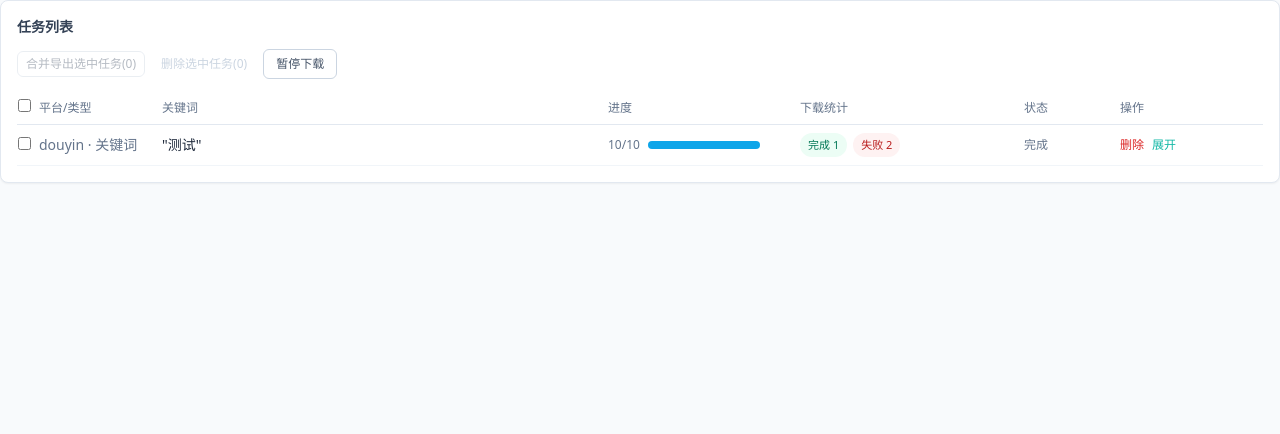
it: 失败行渲染中文原因 › 失败行显示 describeError 的中文原因
This screenshot has width=1280, height=434.
Click the button "展开" at (1164, 145), box top-left (1152, 137), bottom-right (1176, 153)
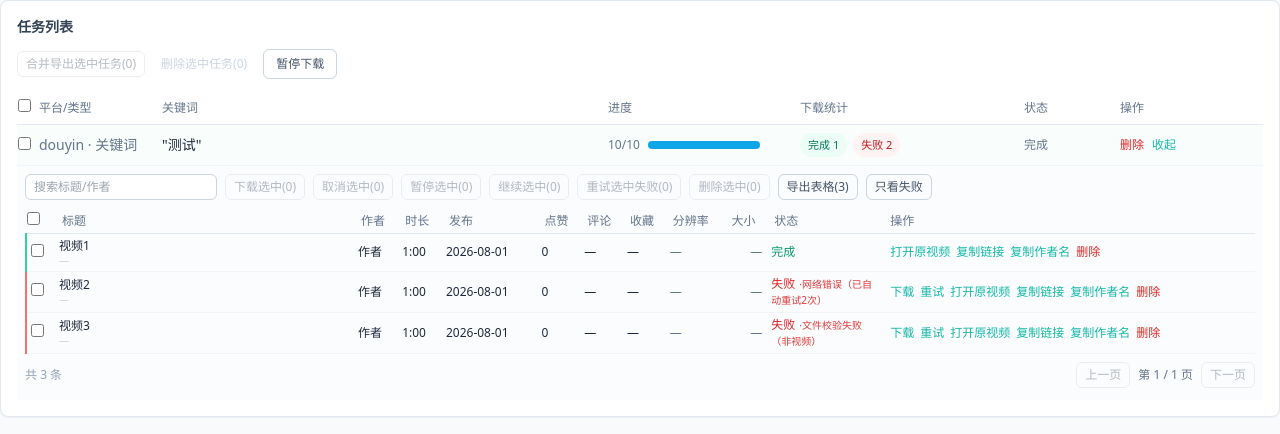
Check: the text "·网络错误（已自动重试2次）" is shown, box top-left (771, 276), bottom-right (872, 306)
Check: the text "·文件校验失败（非视频）" is shown, box top-left (771, 318), bottom-right (862, 348)
